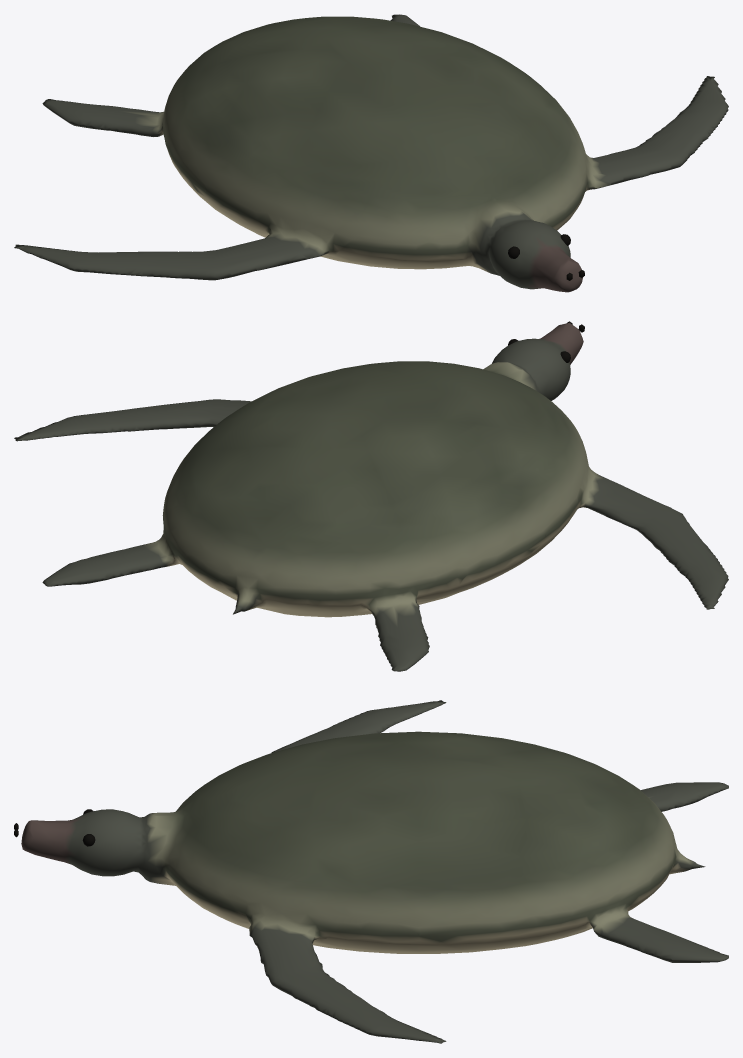
File: AllaeochelysCrassesculpta.fbx
3 renders of one model, top to bottom at view 1: azimuth 30°, elevation 25°; view 2: azimuth 150°, elevation 25°; view 3: azimuth 270°, elevation 25°, orthographic.
Parts seen in each view (by area): view 1: AllaeochelysCrassesculpta; view 2: AllaeochelysCrassesculpta; view 3: AllaeochelysCrassesculpta.
Part boxes in pixels (box(x1,y1,x2,y2)): AllaeochelysCrassesculpta: box(14, 14, 728, 292); AllaeochelysCrassesculpta: box(14, 321, 728, 671); AllaeochelysCrassesculpta: box(14, 700, 728, 1043).
Bounding box in the file's own units: 1.73 × 0.3311 × 1.52.
